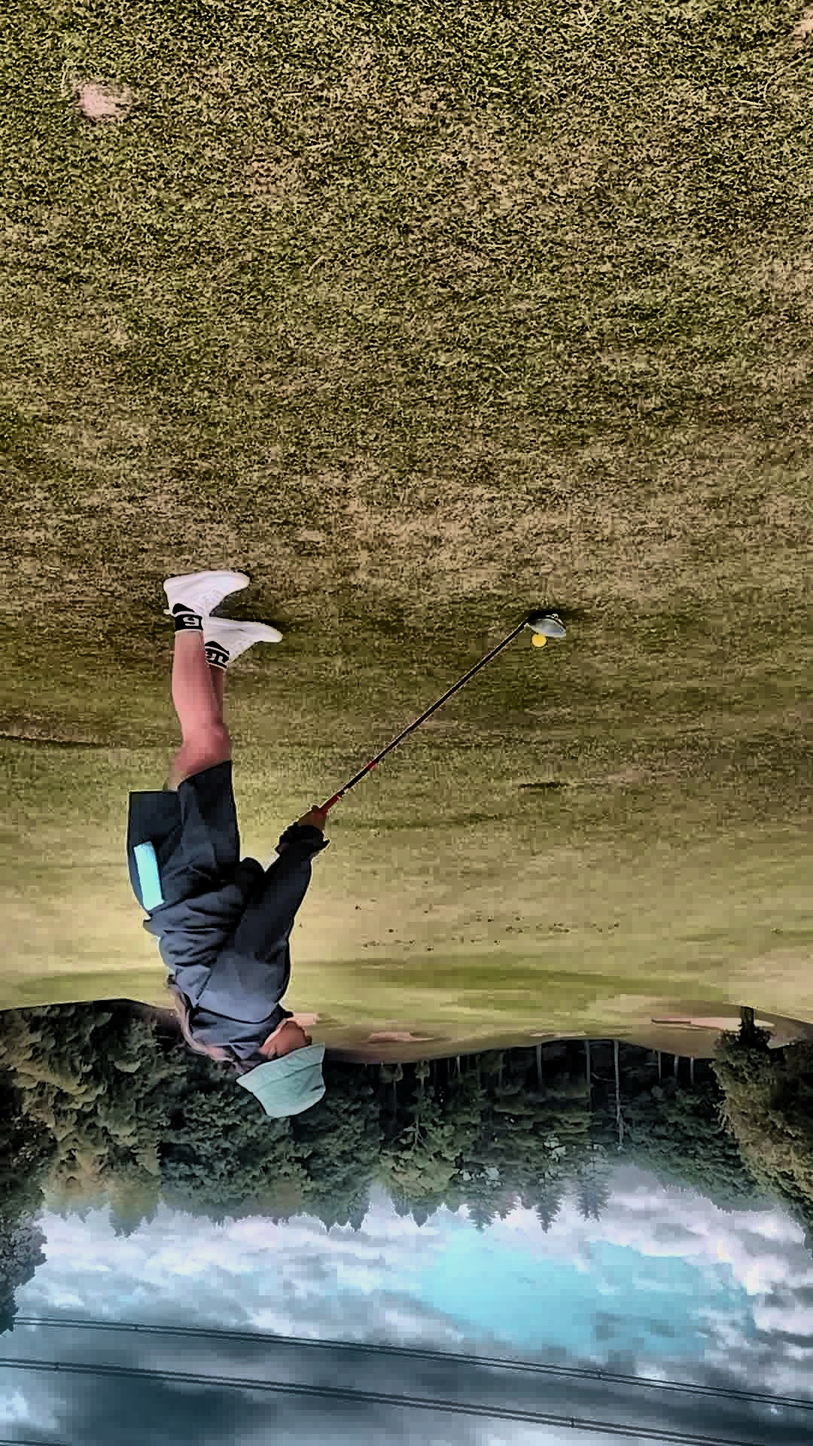clubhead: (469, 548, 652, 695)
